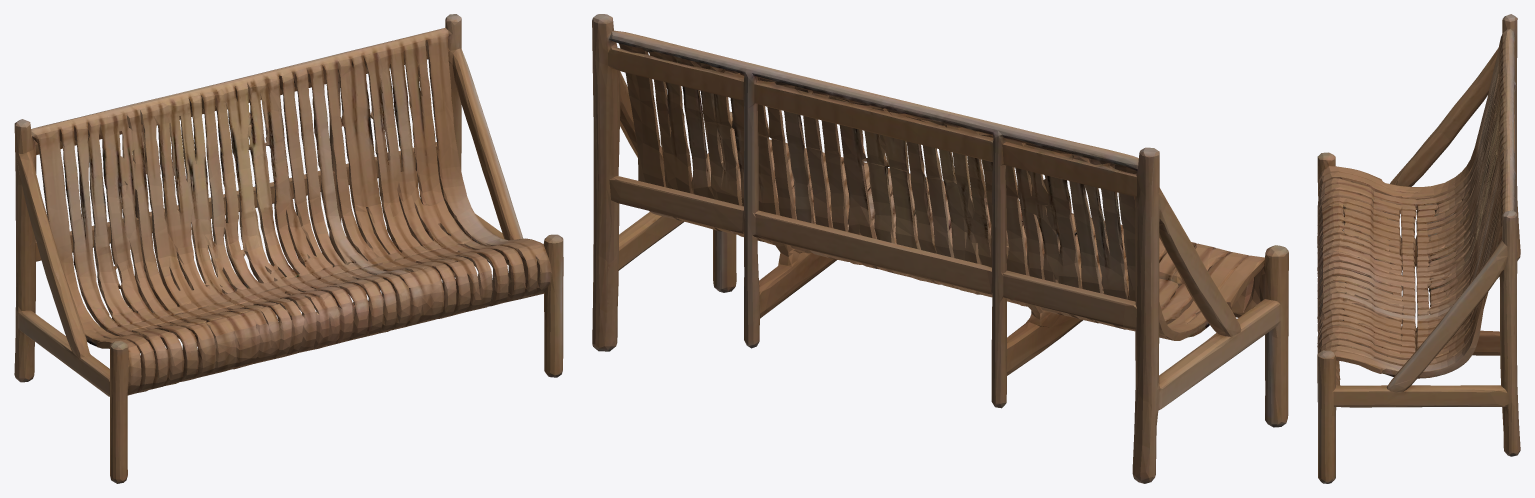
The model's file is ast_ed6a1e7e7d4f.glb.
3 renders of one model, left to right at view 1: azimuth 30°, elevation 25°; view 2: azimuth 150°, elevation 25°; view 3: azimuth 270°, elevation 25°, orthographic. The views are drawn at different scales.
Visible parts, largest first — view 1: geometry_0; view 2: geometry_0; view 3: geometry_0.
Boxes of the visible parts, box(x1,y1,x2,y2) form: geometry_0: box(14, 14, 563, 483); geometry_0: box(592, 14, 1288, 483); geometry_0: box(1317, 14, 1520, 483).
Bounding box in the file's own units: 0.9657 × 0.5909 × 0.4043.
Materials: 1 (1 with a texture image).
